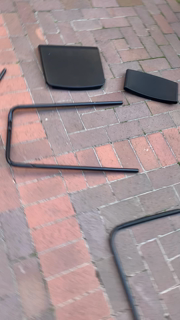Back: (122, 68, 180, 110)
Seat: (36, 44, 108, 94)
U pipe: (5, 100, 141, 177)
